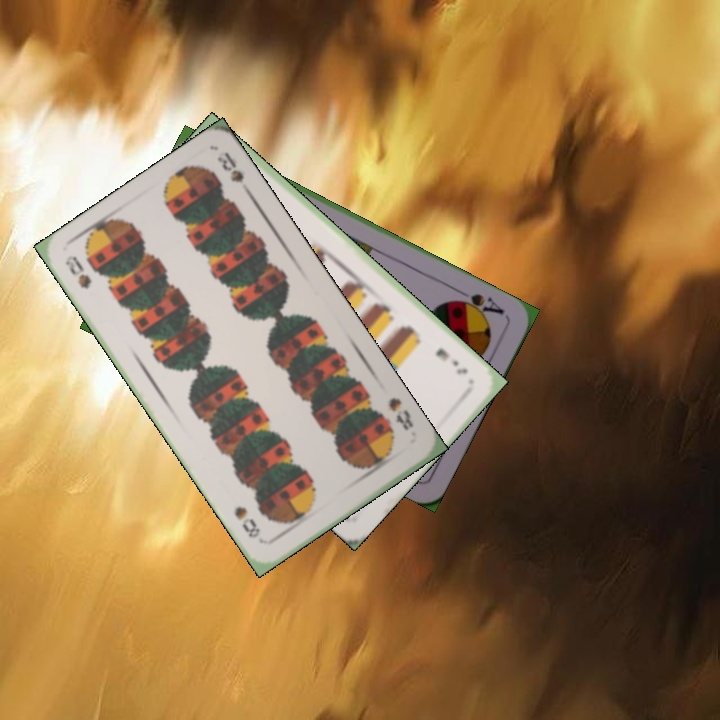E7: (431, 344, 471, 378)
S8: (60, 252, 94, 292), (384, 393, 417, 434)
SA: (449, 289, 506, 321)
